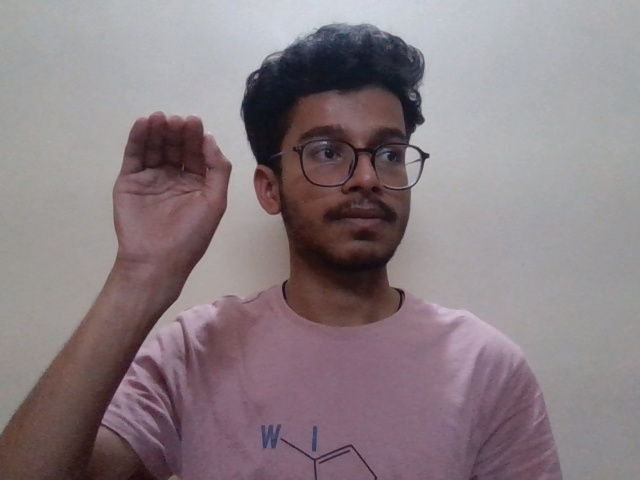sound: (107, 103, 249, 287)
